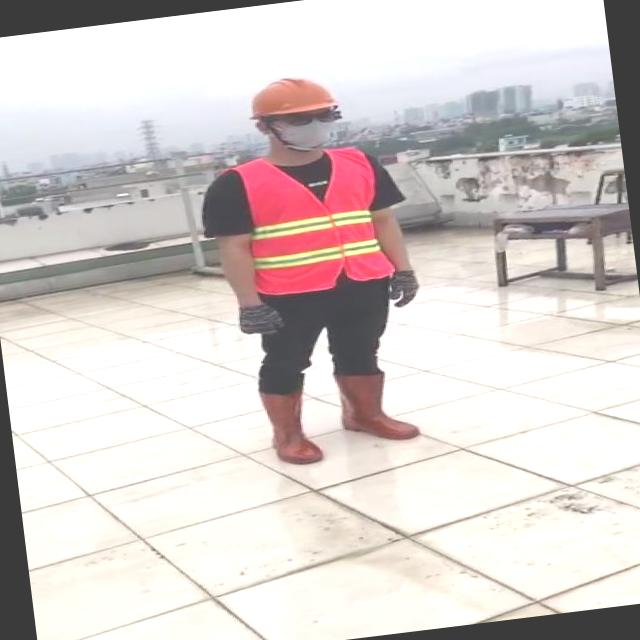boots: (328, 360, 435, 450), (254, 382, 324, 472)
gloves: (232, 300, 286, 342), (386, 268, 424, 310)
helmet: (238, 68, 336, 123)
vest: (225, 142, 396, 298)
